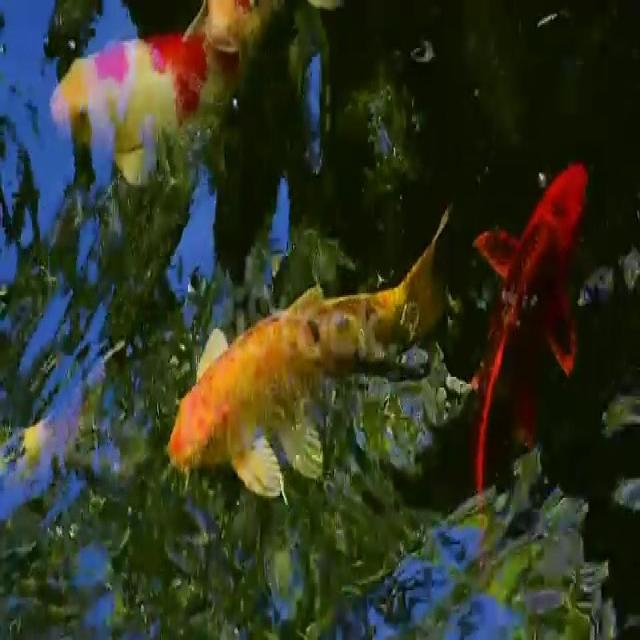fish: (153, 207, 470, 492), (472, 112, 602, 547), (45, 0, 282, 196)
